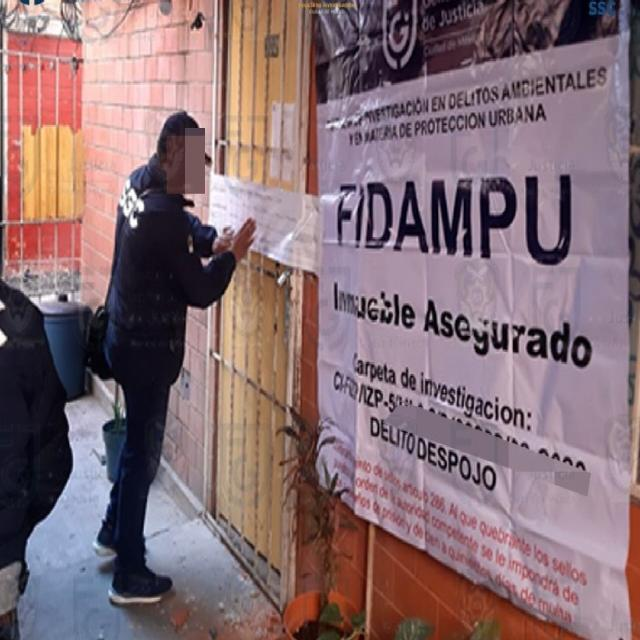stamps: (317, 36, 625, 638)
